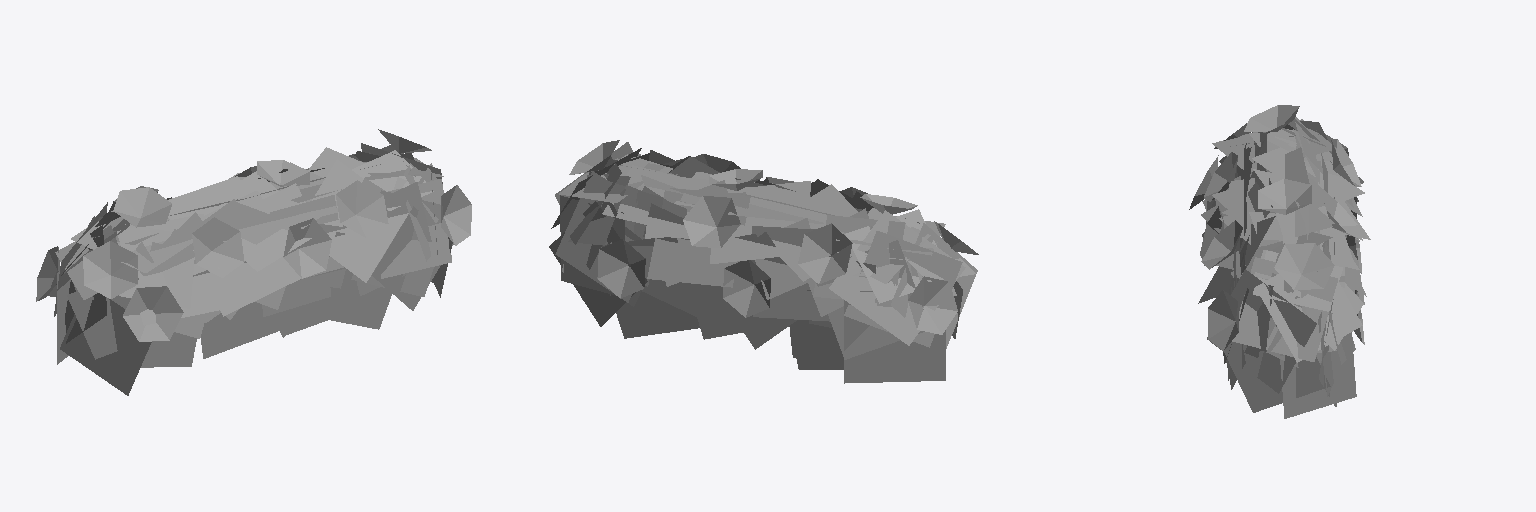
Rendered from Bush_Small_Flowers.obj.
3 views of the same model, side by side, from view 1: azimuth 30°, elevation 25°; view 2: azimuth 150°, elevation 25°; view 3: azimuth 270°, elevation 25° (orthographic).
Visible parts, largest first — view 1: Bush_Small_Flowers_Plane.000; view 2: Bush_Small_Flowers_Plane.000; view 3: Bush_Small_Flowers_Plane.000.
Boxes of the visible parts, <box> form: Bush_Small_Flowers_Plane.000: <box>36,129,471,395</box>; Bush_Small_Flowers_Plane.000: <box>549,140,978,383</box>; Bush_Small_Flowers_Plane.000: <box>1189,105,1370,418</box>.
Bounding box in the file's own units: 1.93 × 0.8168 × 0.7617.